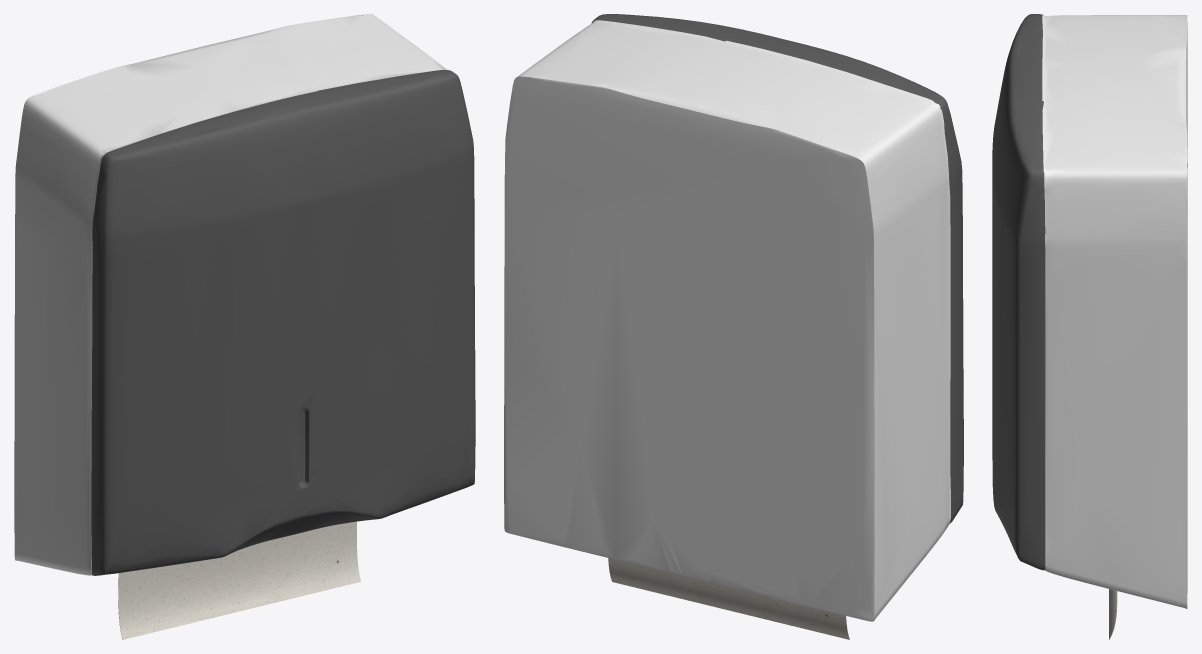
Rendered from Vending paper.FBX.
The picture shows the model from 3 angles, left to right: view 1: azimuth 30°, elevation 25°; view 2: azimuth 150°, elevation 25°; view 3: azimuth 270°, elevation 25°; orthographic projection. The views are drawn at different scales.
Visible parts, largest first — view 1: Vending paper, paper; view 2: Vending paper, paper; view 3: Vending paper, paper.
Boxes of the visible parts, bbox=[...] form: Vending paper: bbox=[14, 14, 475, 575]; paper: bbox=[118, 521, 360, 639]; Vending paper: bbox=[504, 14, 963, 621]; paper: bbox=[608, 558, 849, 639]; Vending paper: bbox=[992, 14, 1187, 608]; paper: bbox=[1109, 589, 1117, 639].
Bounding box in the file's own units: 274 × 379 × 133.
